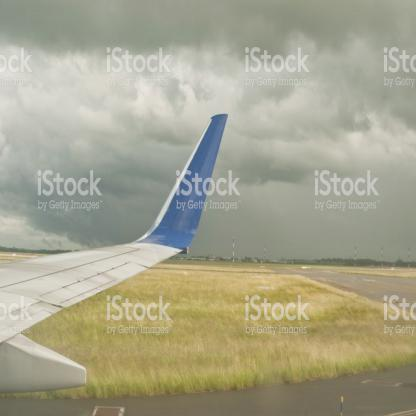CIV_Plane: (0, 110, 230, 395)
